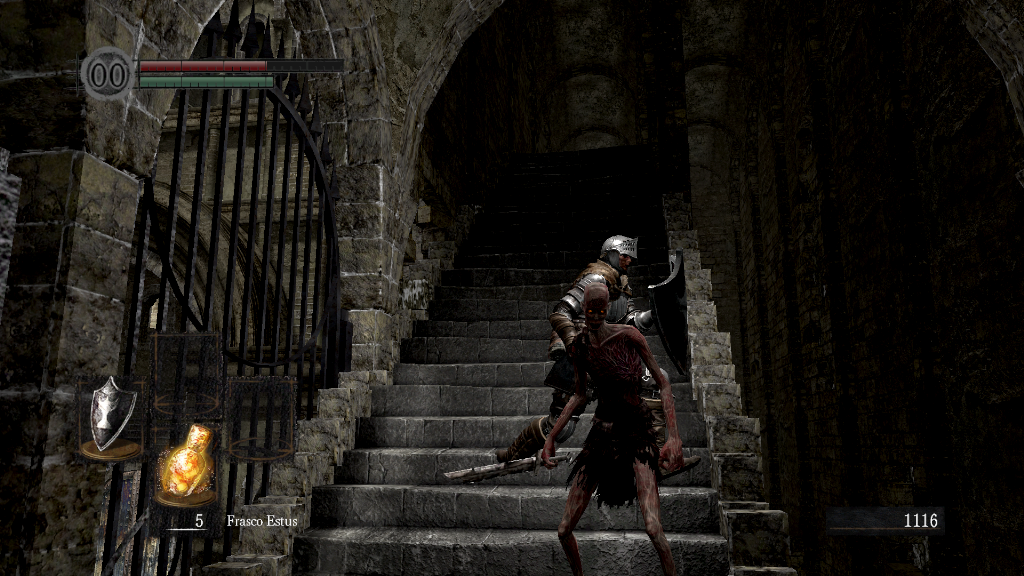health: (138, 58, 343, 71)
hollow: (534, 285, 686, 576)
humanity: (80, 45, 136, 102)
player: (498, 233, 691, 472)
souls: (825, 506, 945, 536)
stamina: (138, 74, 274, 88)
